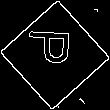P_E: (29, 35, 81, 75)
